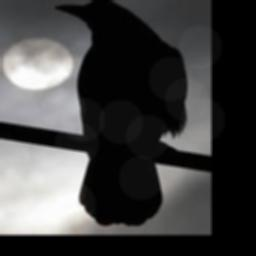Crow: (52, 0, 188, 227)
